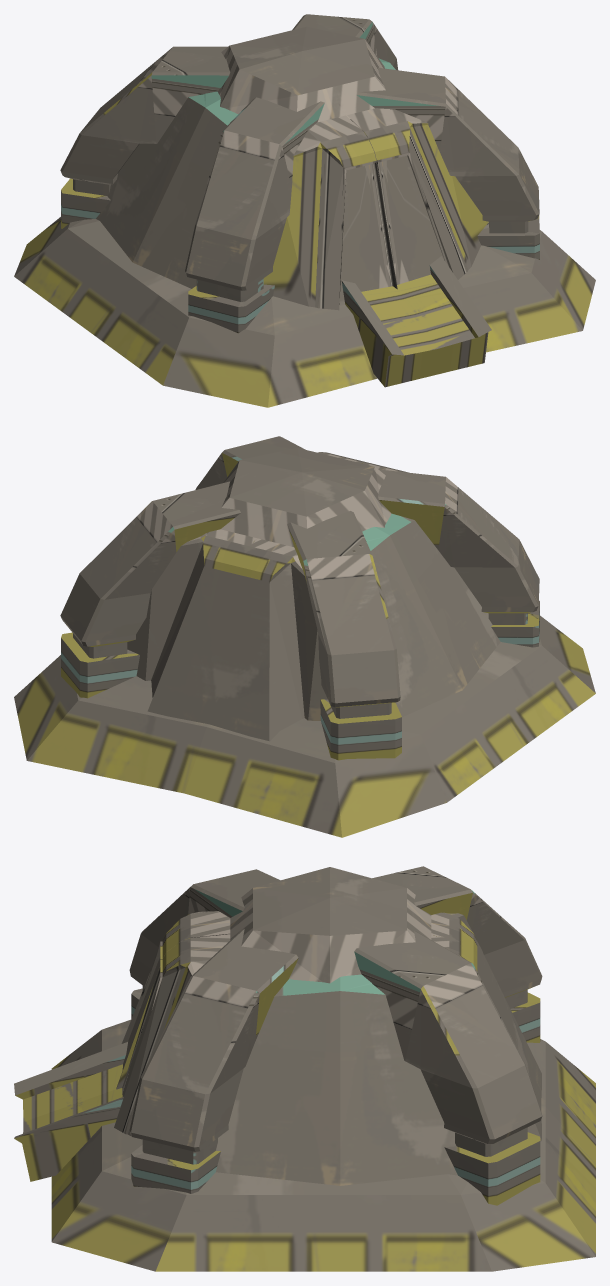
Rendered from bunker.dae.
3 renders of one model, top to bottom at view 1: azimuth 30°, elevation 25°; view 2: azimuth 150°, elevation 25°; view 3: azimuth 270°, elevation 25°, orthographic. The views are drawn at different scales.
Visible parts, largest first — view 1: human_bunker; view 2: human_bunker; view 3: human_bunker.
Boxes of the visible parts, x1,y1,x2,y2 form: human_bunker: [14, 14, 595, 407]; human_bunker: [14, 436, 595, 837]; human_bunker: [14, 866, 595, 1271].
Size of the model in its own units: 18.93 by 19.51 by 10.07.
